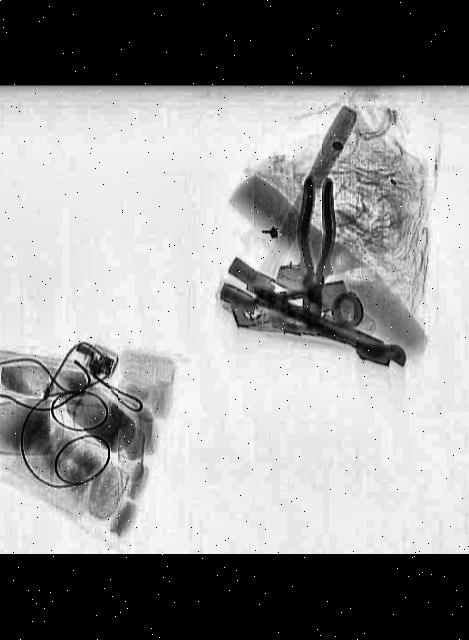Wrench: (240, 276, 413, 375)
